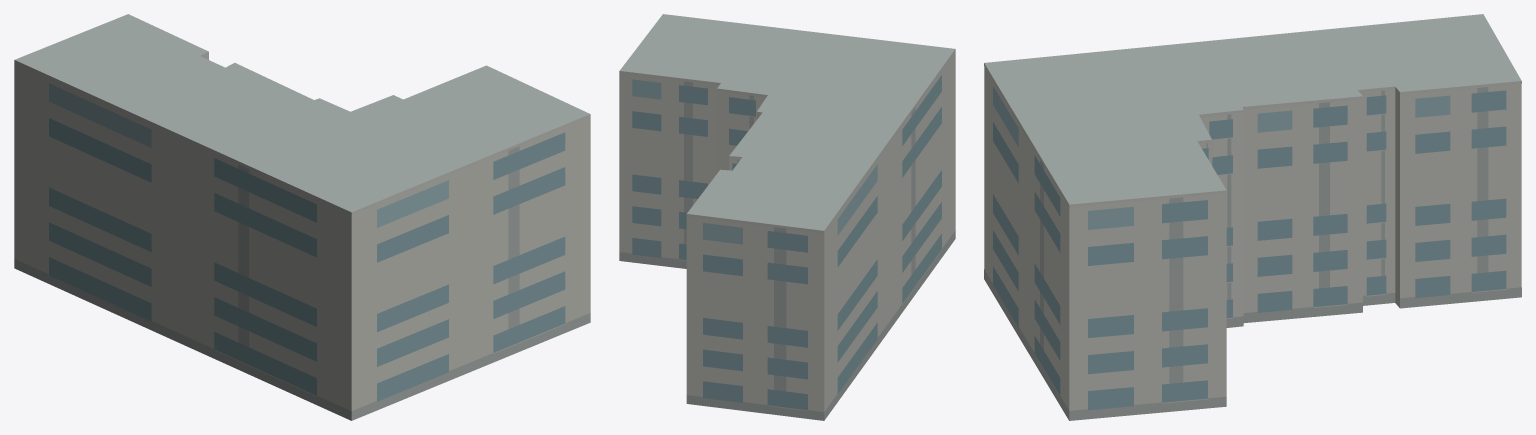
The model's file is survey-upis-32808605.glb.
The picture shows the model from 3 angles, left to right: view 1: azimuth 30°, elevation 25°; view 2: azimuth 150°, elevation 25°; view 3: azimuth 270°, elevation 25°; orthographic projection. The views are drawn at different scales.
Parts seen in each view (by area): view 1: survey-upis-32808605.tmp; view 2: survey-upis-32808605.tmp; view 3: survey-upis-32808605.tmp.
Boxes of the visible parts, x1,y1,x2,y2 form: survey-upis-32808605.tmp: [14, 14, 590, 420]; survey-upis-32808605.tmp: [619, 14, 955, 420]; survey-upis-32808605.tmp: [984, 14, 1521, 420].
Size of the model in its own units: 33.07 by 17.5 by 39.43.
